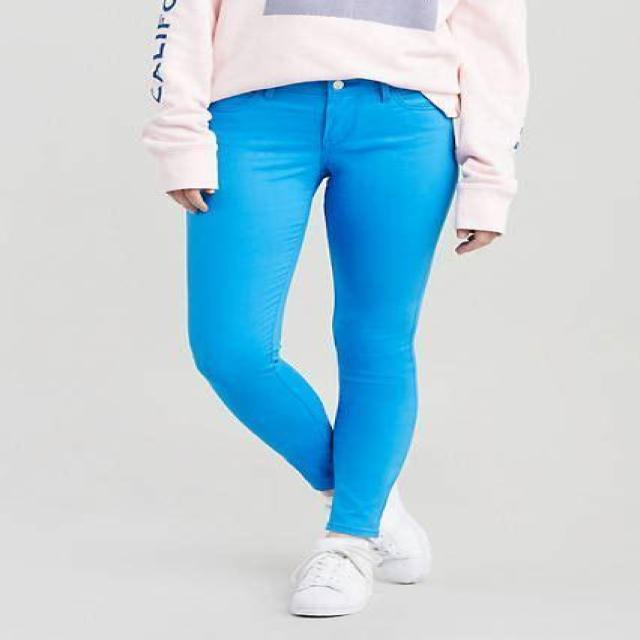pants: (182, 78, 458, 537)
